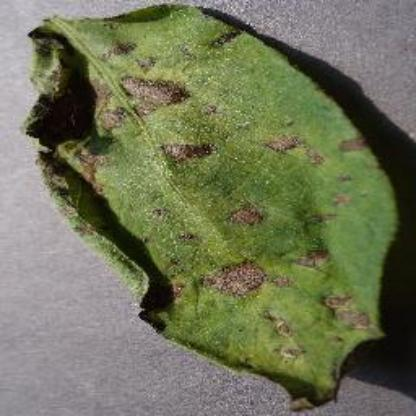Early-Blight: (24, 7, 404, 409)
